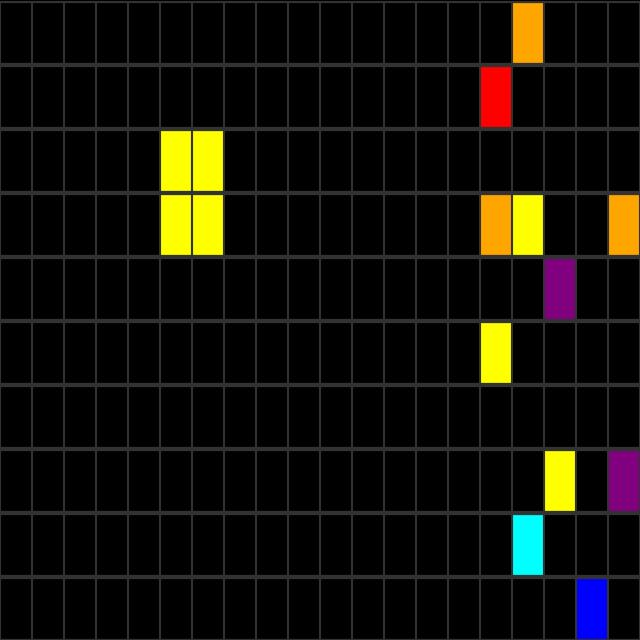Tetrimino_O: (161, 128, 224, 256)
